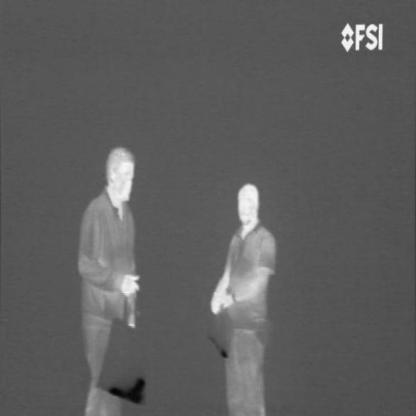weapon: (106, 372, 146, 406)
